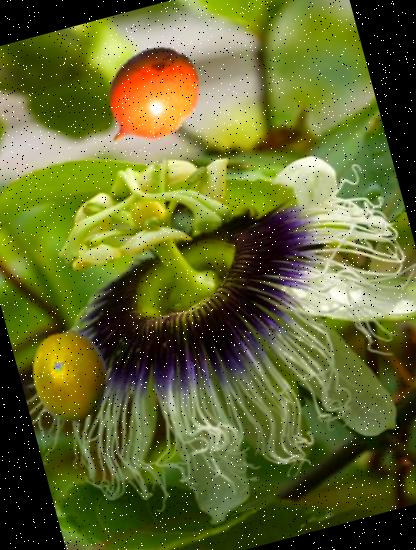Granadilla: (79, 29, 221, 171)
Maracuja: (13, 320, 127, 434)
